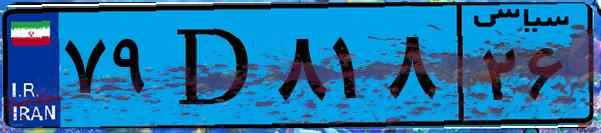1: (330, 28, 385, 110)
2: (475, 38, 525, 113)
6: (525, 38, 570, 115)
7: (57, 26, 110, 100)
8: (270, 28, 330, 110), (385, 28, 445, 110)
9: (110, 28, 158, 98)
D: (158, 12, 270, 120)
